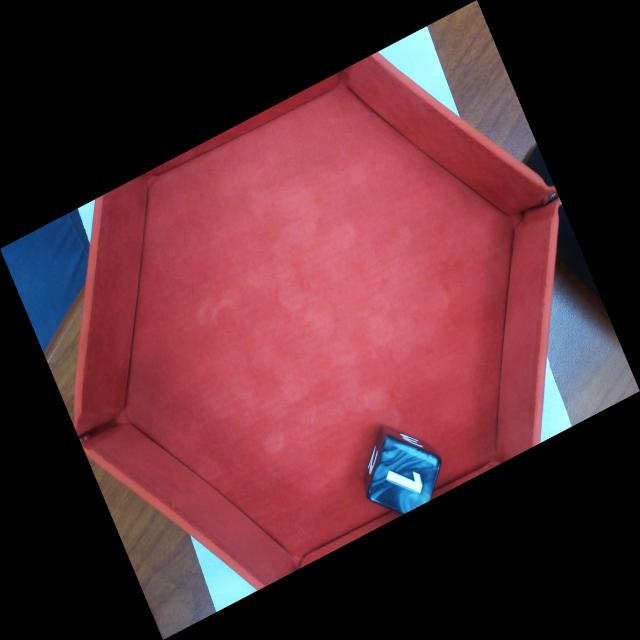dice: (363, 432, 444, 515)
